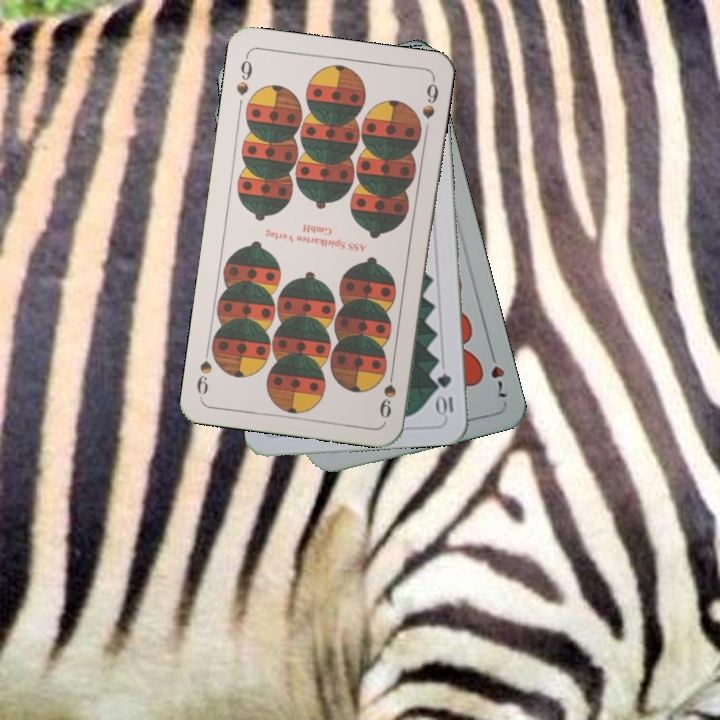G10: (433, 369, 456, 419)
H7: (485, 345, 510, 402)
S9: (375, 363, 398, 421), (232, 51, 255, 98)
